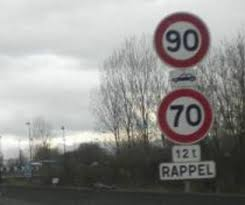Speed_limit_70km: (158, 88, 213, 145)
Speed_limit_90km: (154, 11, 211, 68)
